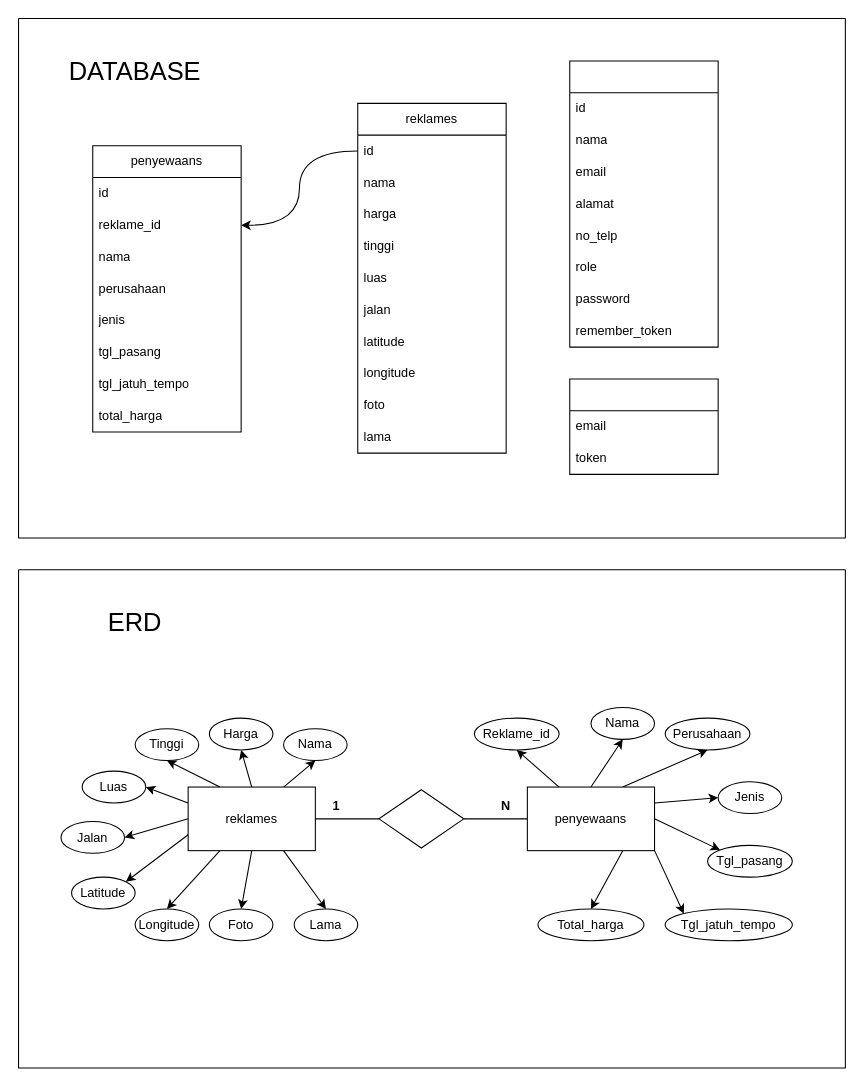
The diagram is 864 pixels wide and 1087 high, and some of its shapes have lost their labels. Each missing label, with the box of its shape:
Memiliki: (378, 789, 464, 848)
password_reset_tokens: (569, 378, 718, 474)
users: (569, 60, 718, 347)
